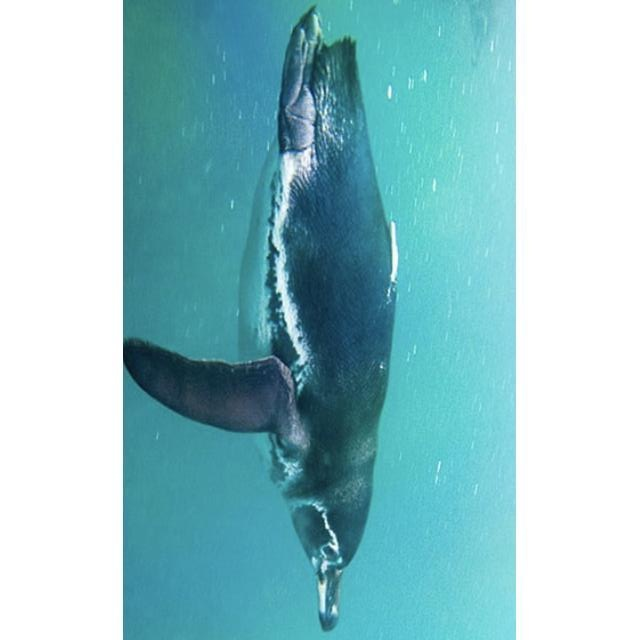penguin: (125, 7, 400, 631)
